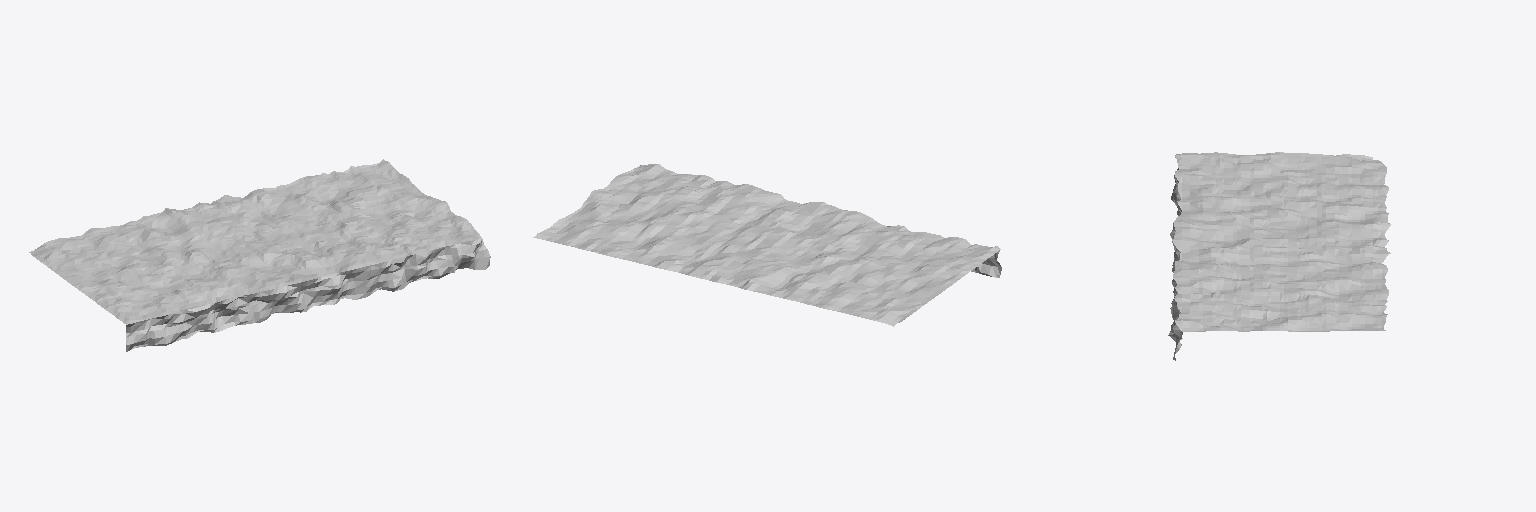
File: FloorNoBackSides.obj
3 views of the same model, side by side, from view 1: azimuth 30°, elevation 25°; view 2: azimuth 150°, elevation 25°; view 3: azimuth 270°, elevation 25° (orthographic).
Parts seen in each view (by area): view 1: box_object1; view 2: box_object1; view 3: box_object1.
Boxes of the visible parts, x1,y1,x2,y2 form: box_object1: [29, 159, 490, 351]; box_object1: [533, 164, 1001, 326]; box_object1: [1168, 152, 1390, 360].
Bounding box in the file's own units: 92.18 × 8.56 × 48.81.